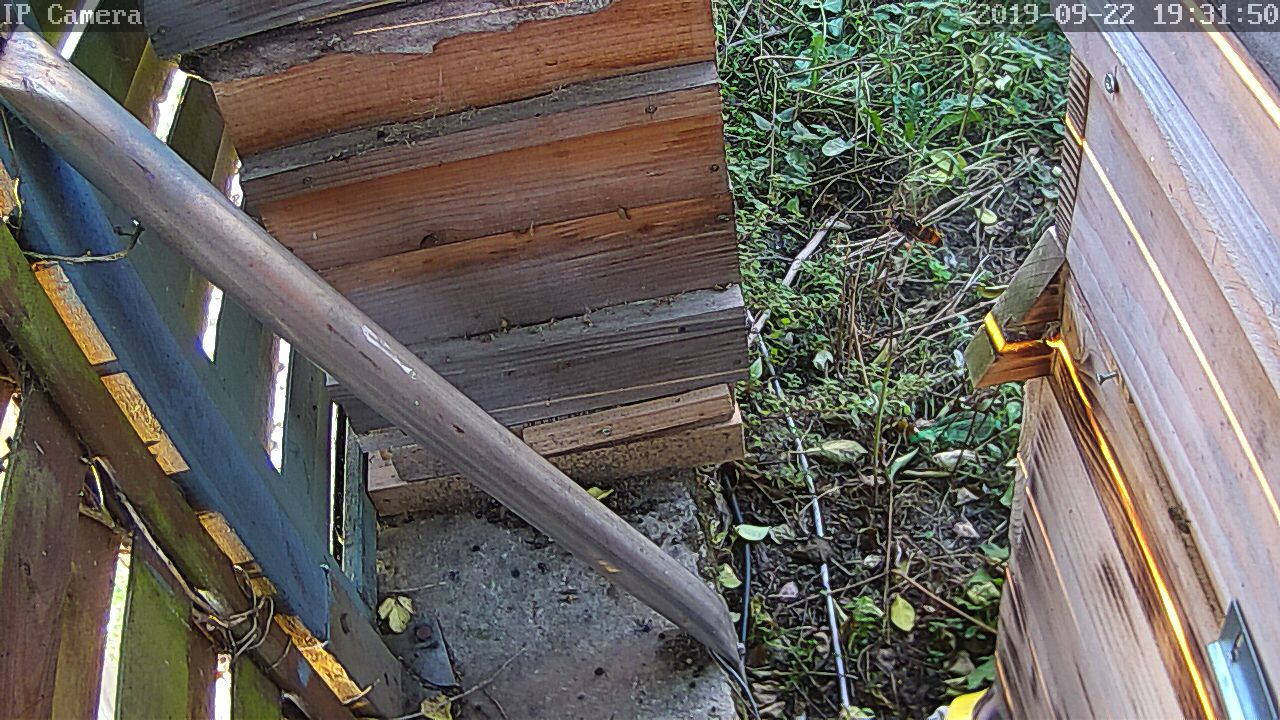bee: (1161, 504, 1198, 543)
hornet: (889, 208, 945, 250)
